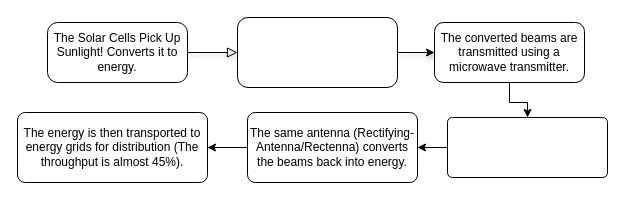
Image size: 625x200. Some labels were removed from this diagram. Each missing label, with the centre of its shape:
The beams are received on the ground using special purpose antennas.: the point at 527,147
The energy is converted to microwave/phased beams using photovoltaic cells.: the point at 317,52
